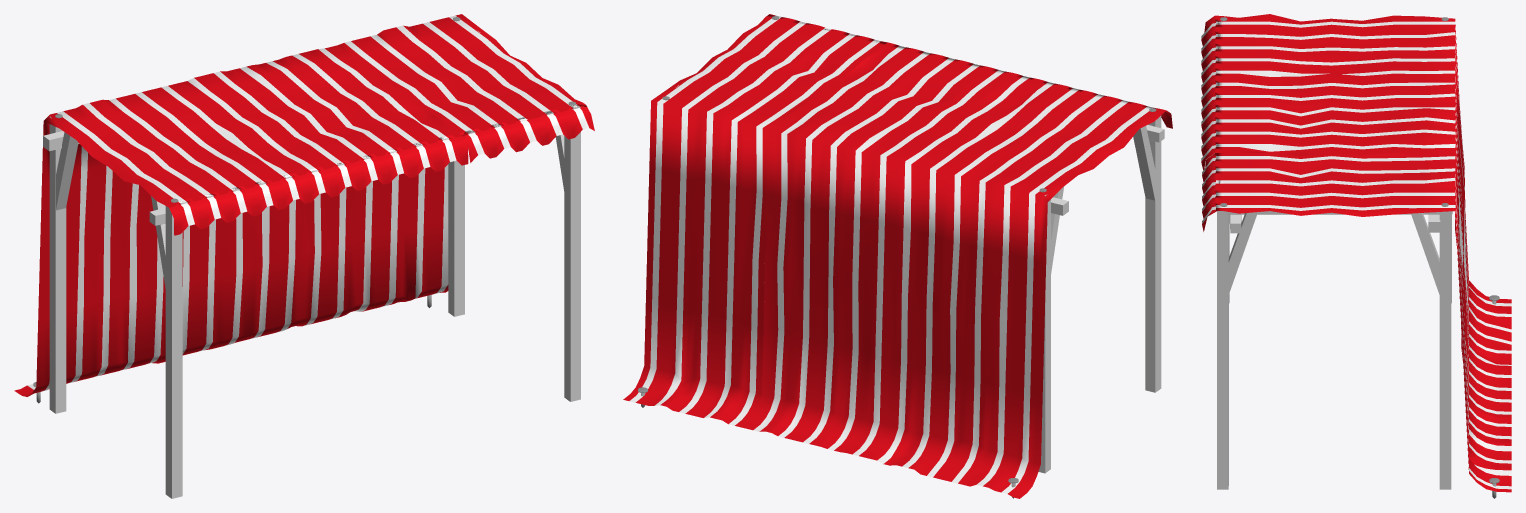
File: Jahrmarktstand_v2.fbx
3 renders of one model, left to right at view 1: azimuth 30°, elevation 25°; view 2: azimuth 150°, elevation 25°; view 3: azimuth 270°, elevation 25°, orthographic. The views are drawn at different scales.
Visible parts, largest first — view 1: Plane, Cube, Cube.007, Cube.006, Cube.011, Cube.005; view 2: Plane, Cube, Cube.006, Cube.001; view 3: Plane, Cube.011, Cube.007, Cube.008, Cube.010.
Part boxes in pixels (box(x1,y1,x2,y2)): Plane: box(14, 14, 594, 396); Cube: box(165, 206, 182, 498); Cube.007: box(564, 107, 580, 401); Cube.006: box(49, 116, 66, 413); Cube.011: box(448, 160, 464, 316); Cube.005: box(56, 132, 78, 210); Plane: box(623, 14, 1172, 498); Cube: box(1145, 115, 1161, 392); Cube.006: box(1038, 194, 1050, 473); Cube.001: box(1133, 126, 1155, 200); Plane: box(1201, 14, 1511, 492); Cube.011: box(1439, 211, 1451, 489); Cube.007: box(1217, 211, 1228, 489); Cube.008: box(1228, 212, 1257, 294); Cube.010: box(1409, 208, 1439, 294).
Bounding box in the file's own units: 1612 × 1112 × 1057.
